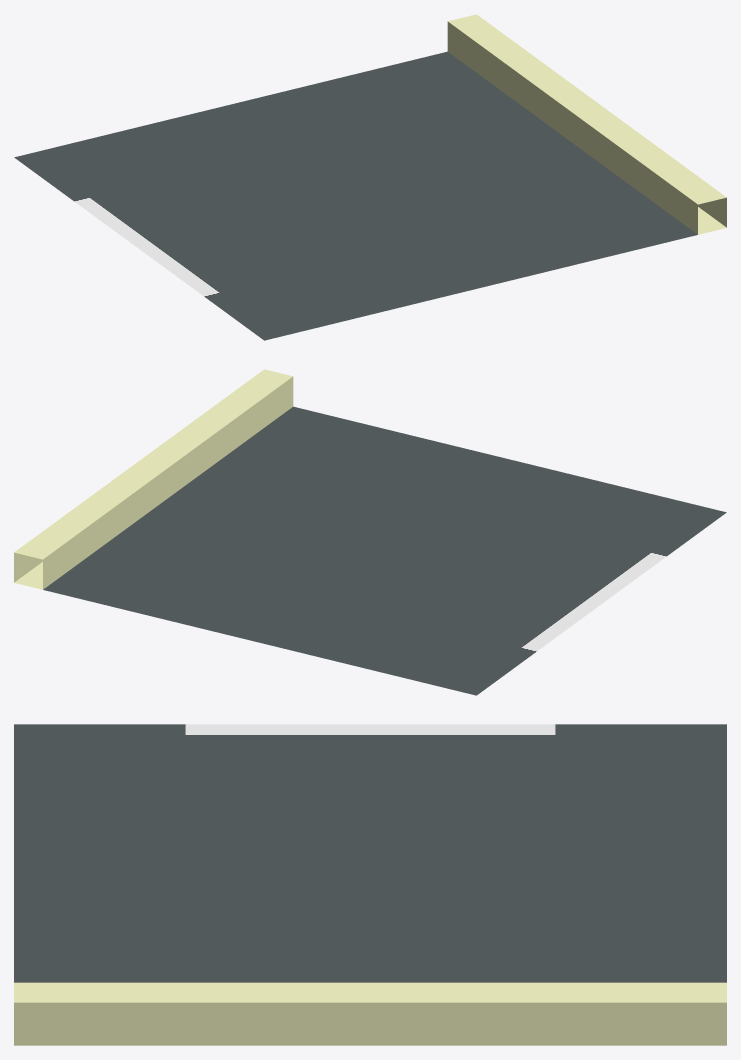
Rendered from road_dottedline1_edge1_right.fbx.
The picture shows the model from 3 angles, top to bottom: view 1: azimuth 30°, elevation 25°; view 2: azimuth 150°, elevation 25°; view 3: azimuth 270°, elevation 25°; orthographic projection. The views are drawn at different scales.
Parts seen in each view (by area): view 1: pPlane1, pPlane2; view 2: pPlane1, pPlane2; view 3: pPlane1, pPlane2.
Part boxes in pixels (x1,y1,x2,y2): pPlane1: [14, 51, 697, 340]; pPlane2: [447, 14, 726, 234]; pPlane1: [43, 406, 726, 695]; pPlane2: [14, 369, 293, 589]; pPlane1: [14, 724, 726, 982]; pPlane2: [14, 982, 726, 1045].
Bounding box in the file's own units: 107 × 6.67 × 100.
